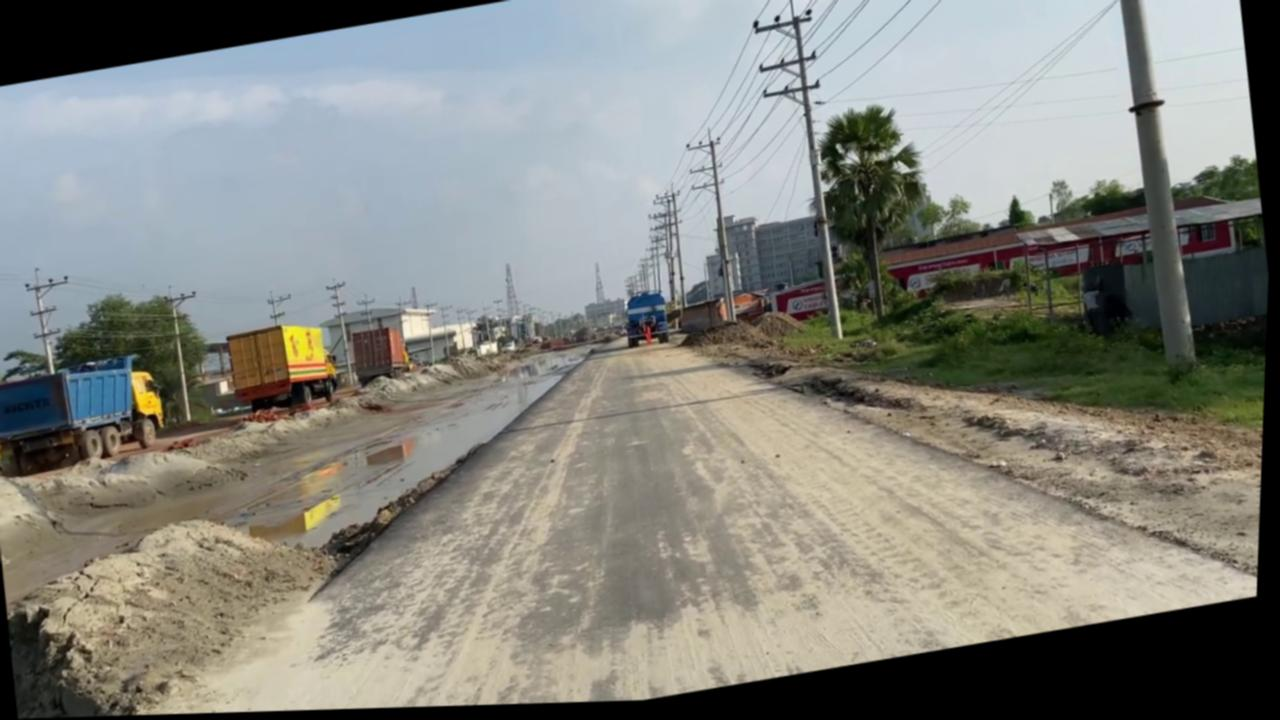Pole: (1090, 0, 1212, 385), (738, 0, 860, 355)
Sidewalk: (12, 340, 633, 719)
Traffic-sign: (797, 98, 948, 337)
Tree: (0, 348, 175, 479), (225, 317, 346, 419), (349, 324, 417, 390), (625, 292, 677, 353), (718, 292, 771, 331)
Upstairs: (1076, 243, 1272, 356)
